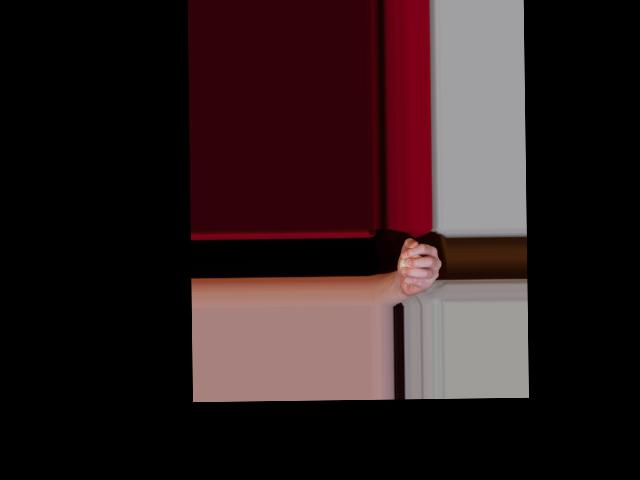egg: (399, 251, 423, 276)
